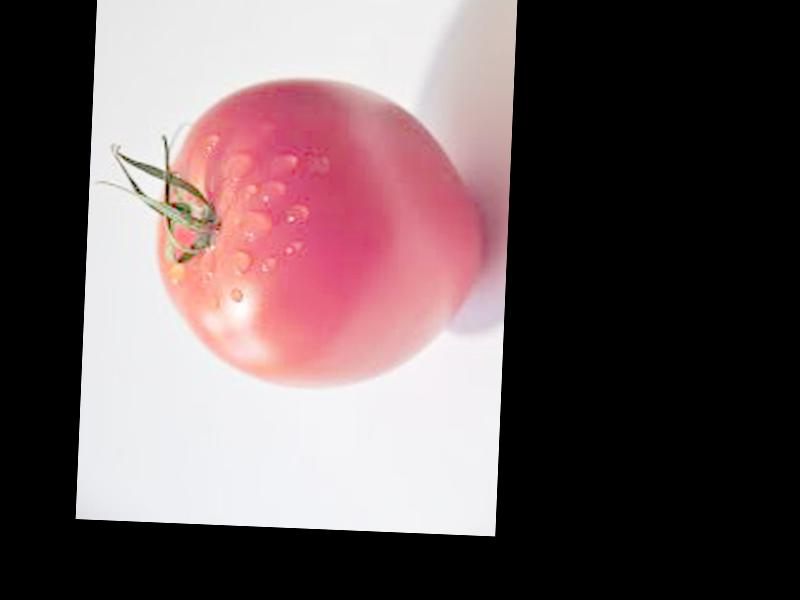Tomato: (155, 74, 488, 395)
